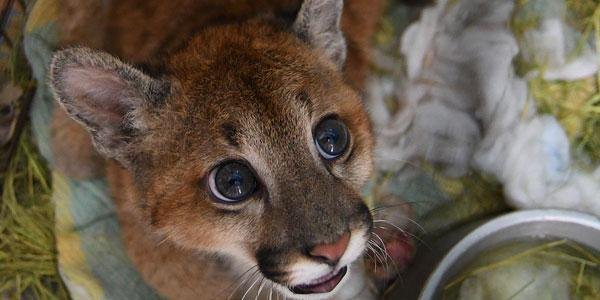OncaParda: (38, 6, 403, 299)
